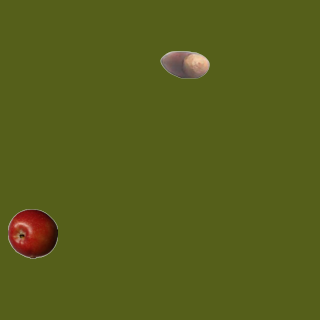Apple Braeburn: (7, 208, 57, 258)
Hazelnut: (159, 39, 209, 89)
